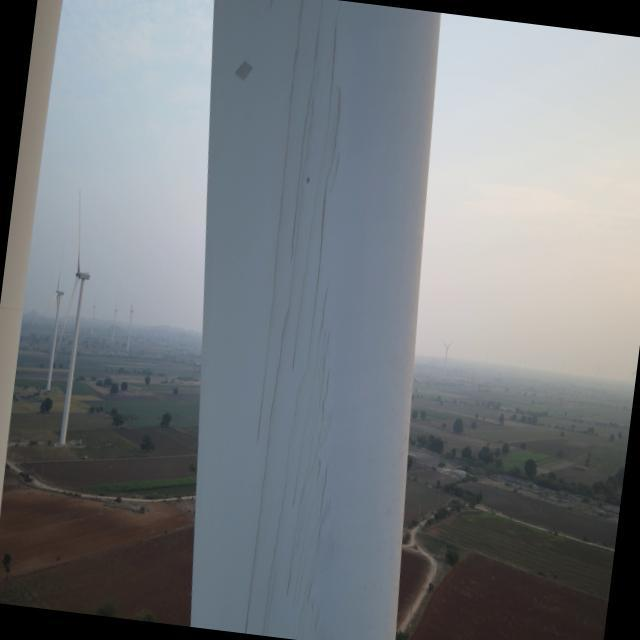Dirt: (227, 2, 350, 640)
Pin Hole: (301, 172, 315, 188)
